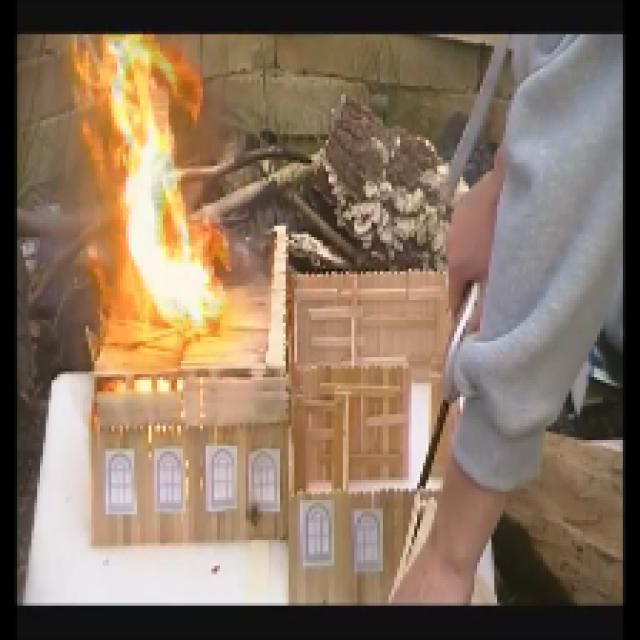Fire: (73, 38, 228, 358)
